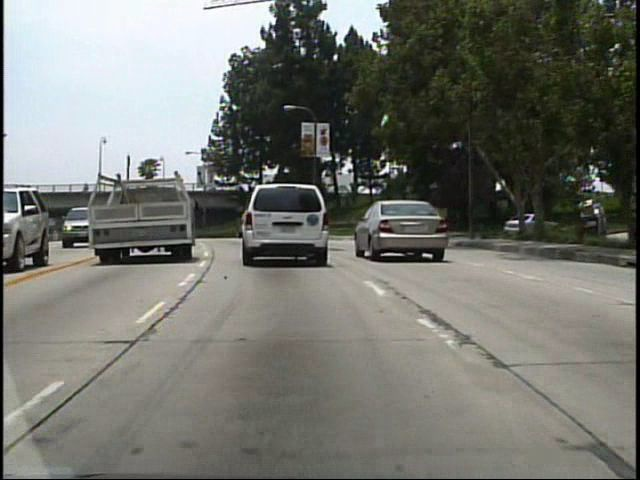person: (80, 178, 91, 198)
